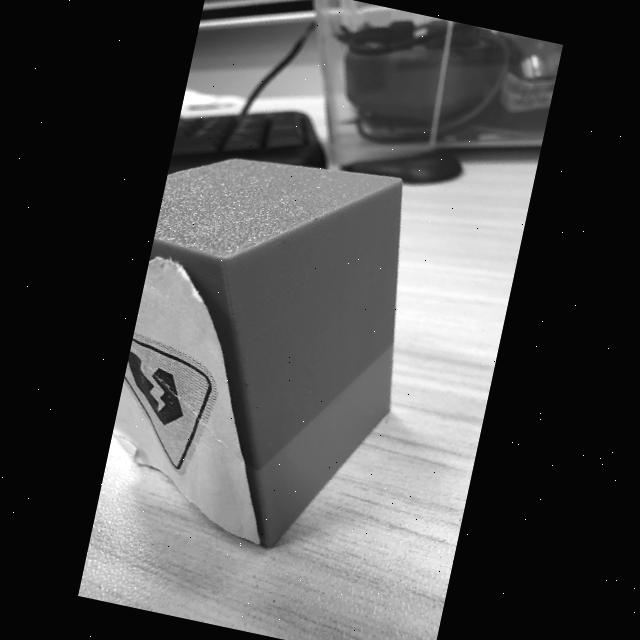Earthquake: (122, 332, 216, 470)
